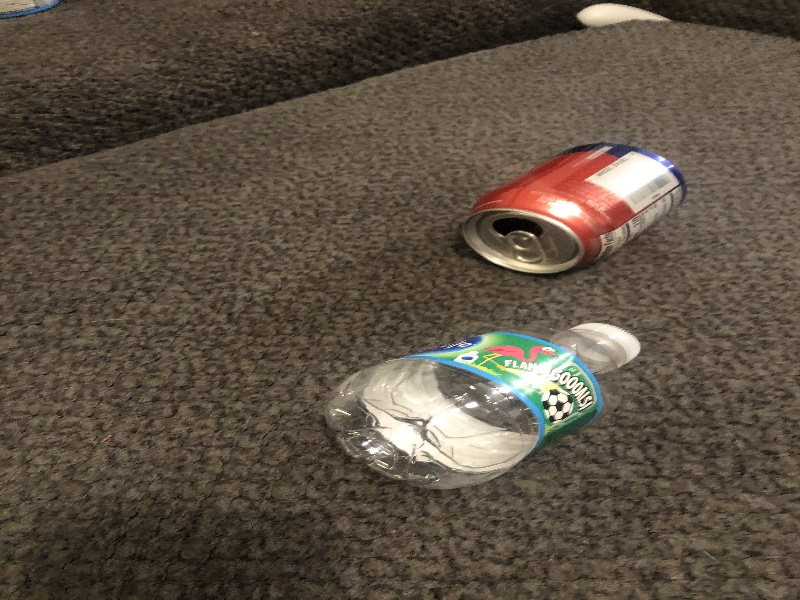metal: (450, 140, 693, 282)
plastic: (324, 316, 645, 491)
